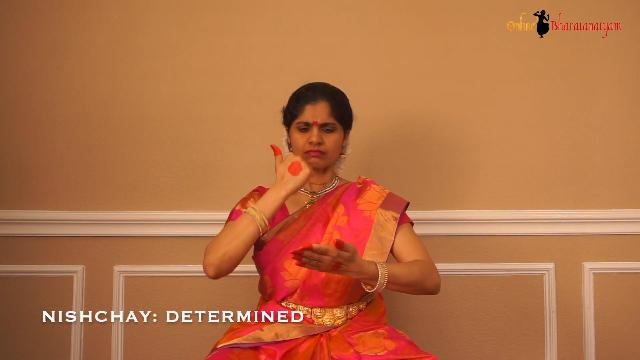shikhar: (232, 136, 322, 214)
